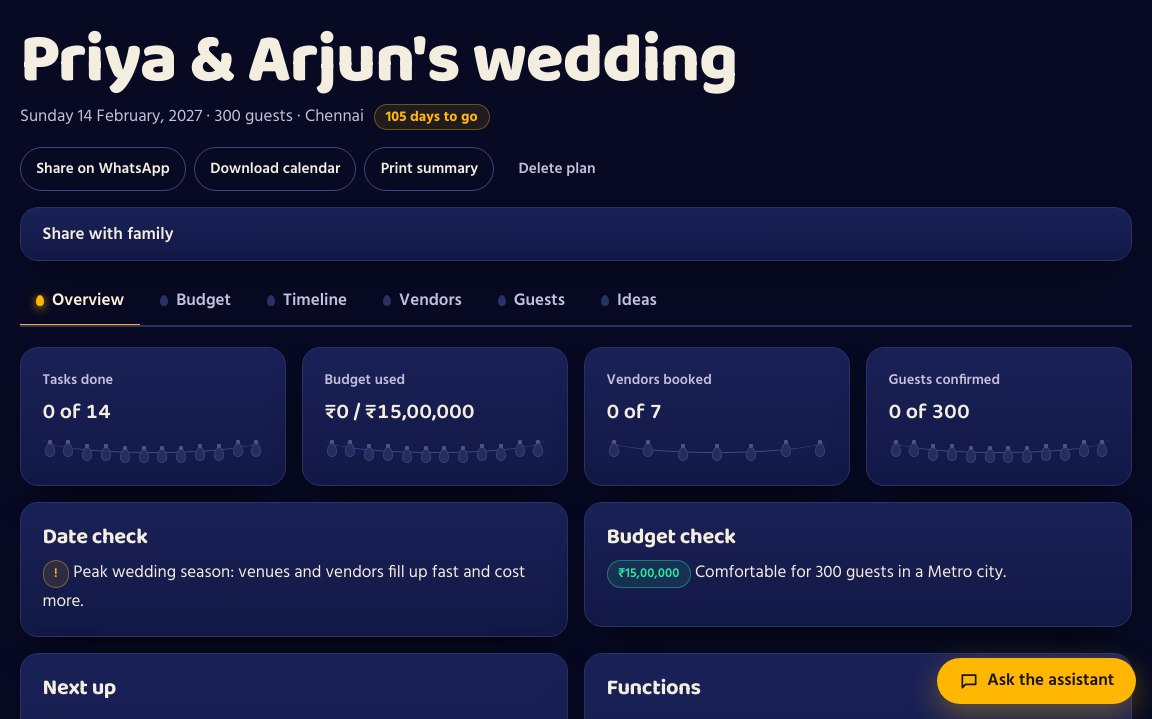
Dashboard › updates headcounts when a guest is added
Click the tab "Guests" at (531, 302), box [482,278,581,327]
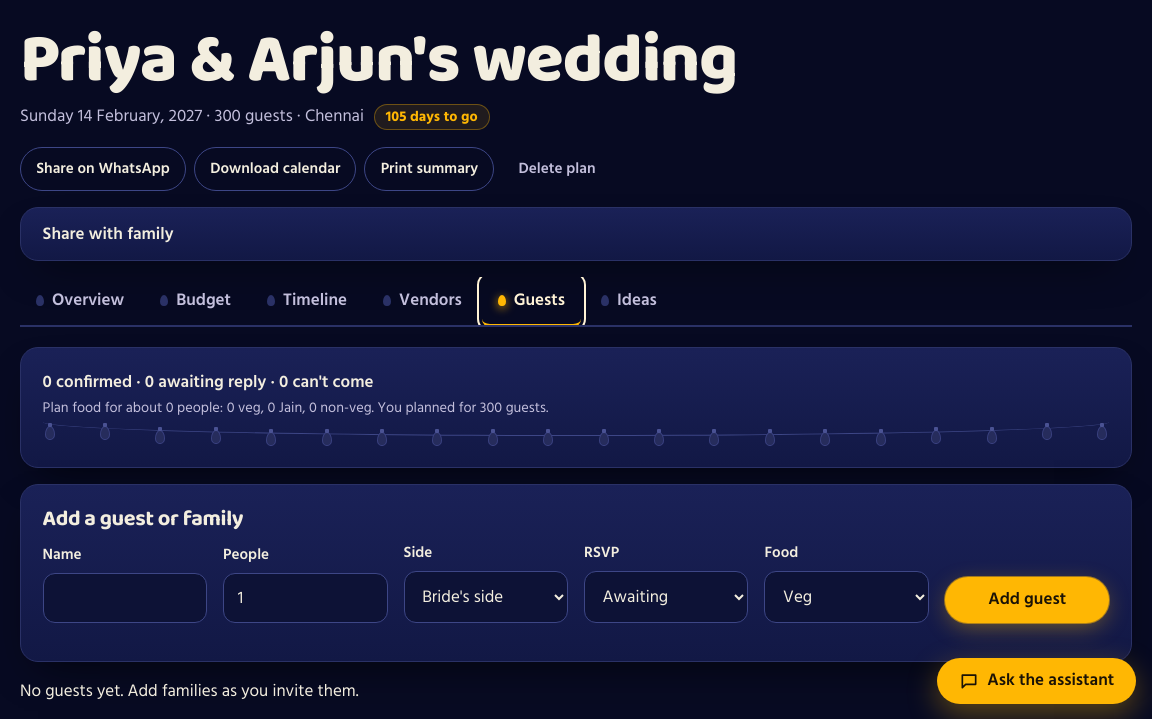
Type "Reddy family" into the field labelled "Name" at (125, 598), box [43,573,207,623]
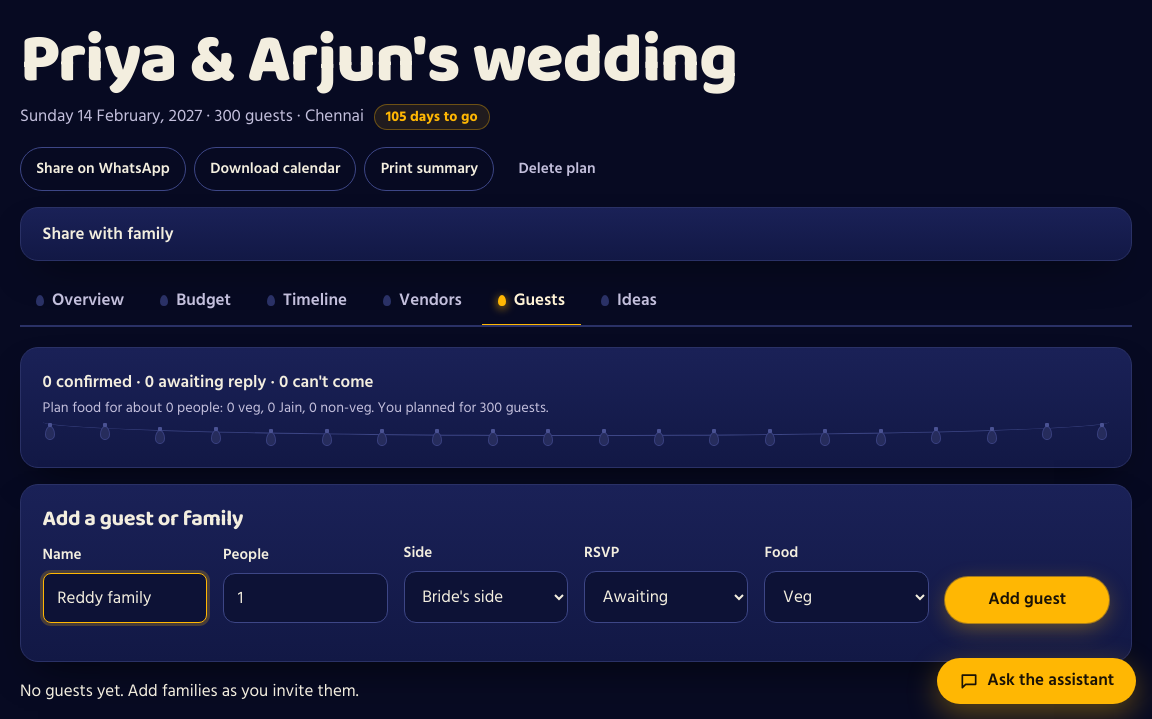
Replace the text in the field labelled "People" with "4" at (305, 598), box [223,573,388,623]
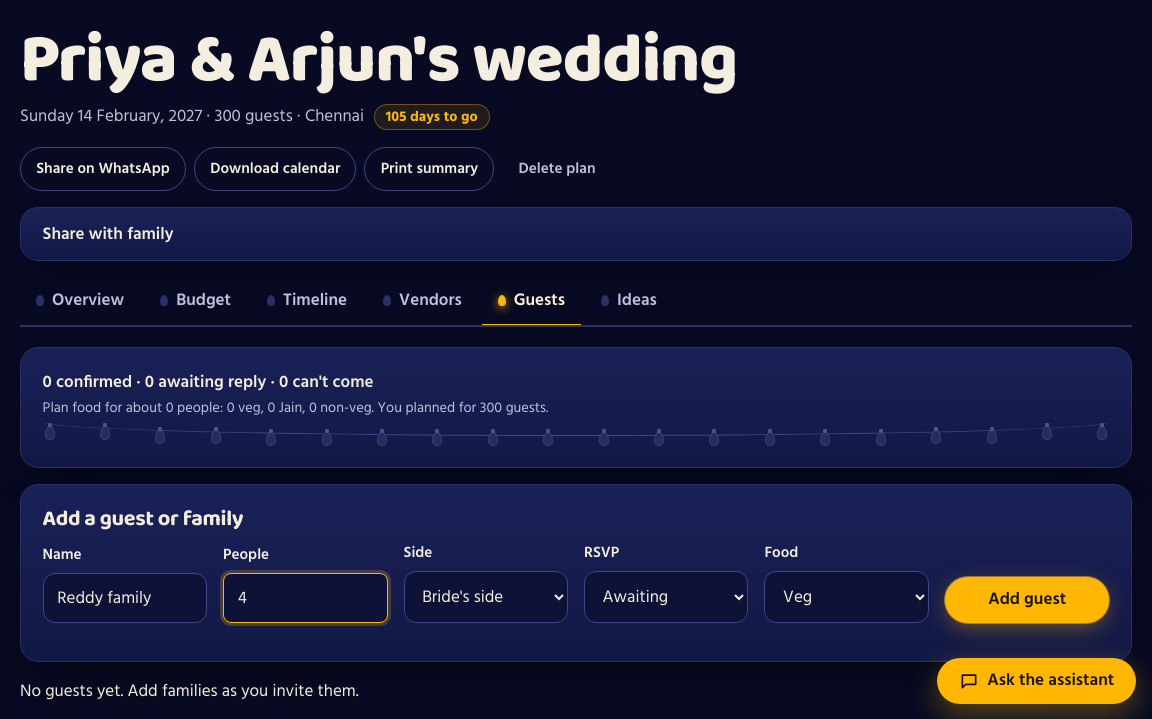
Select "Coming" in the dropdown labelled "RSVP" at (666, 597), box [584,571,748,623]
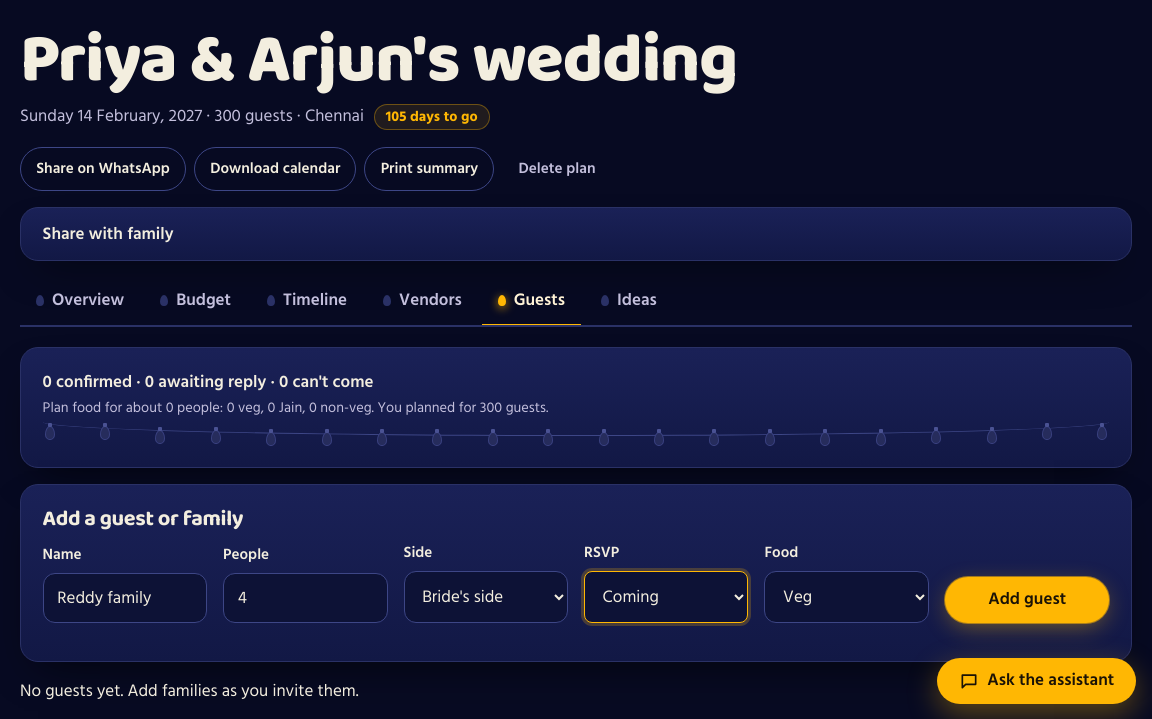
Click the button "Add guest" at (1027, 600), box [945,577,1109,623]
(page scrolled)
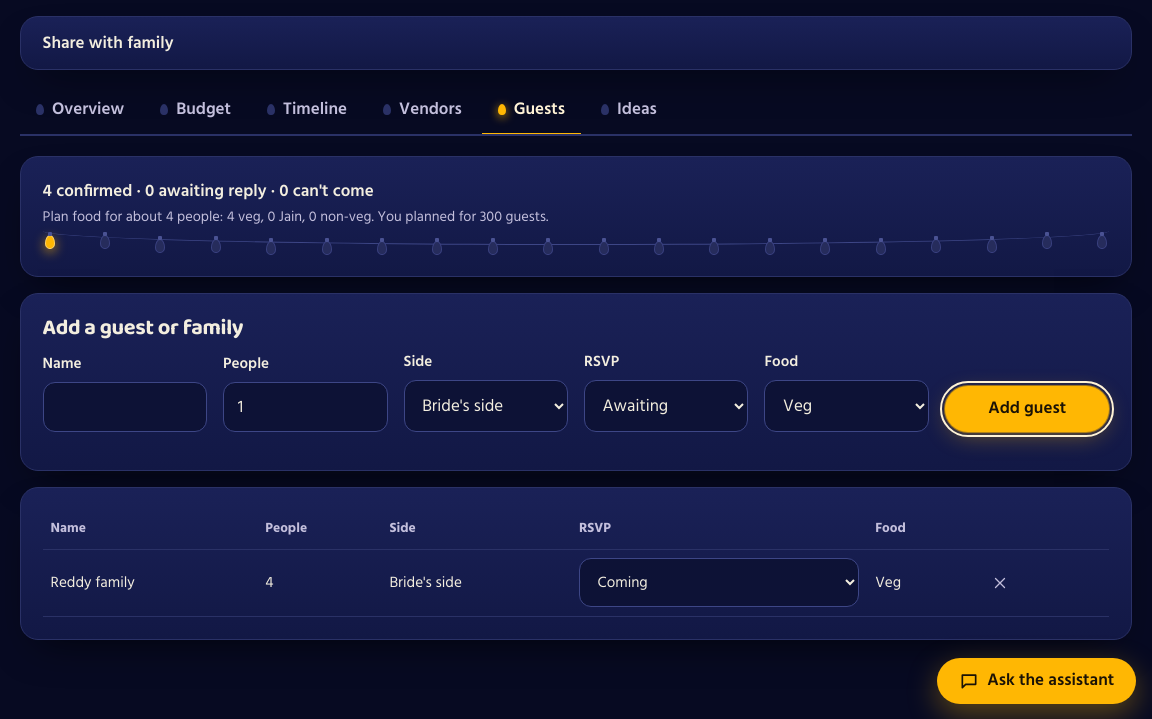
Check: the text "4 confirmed · 0 awaiting reply · 0 can't come" is shown, box [43,178,374,206]
Check: the cell "Reddy family" is shown, box [43,549,257,617]
